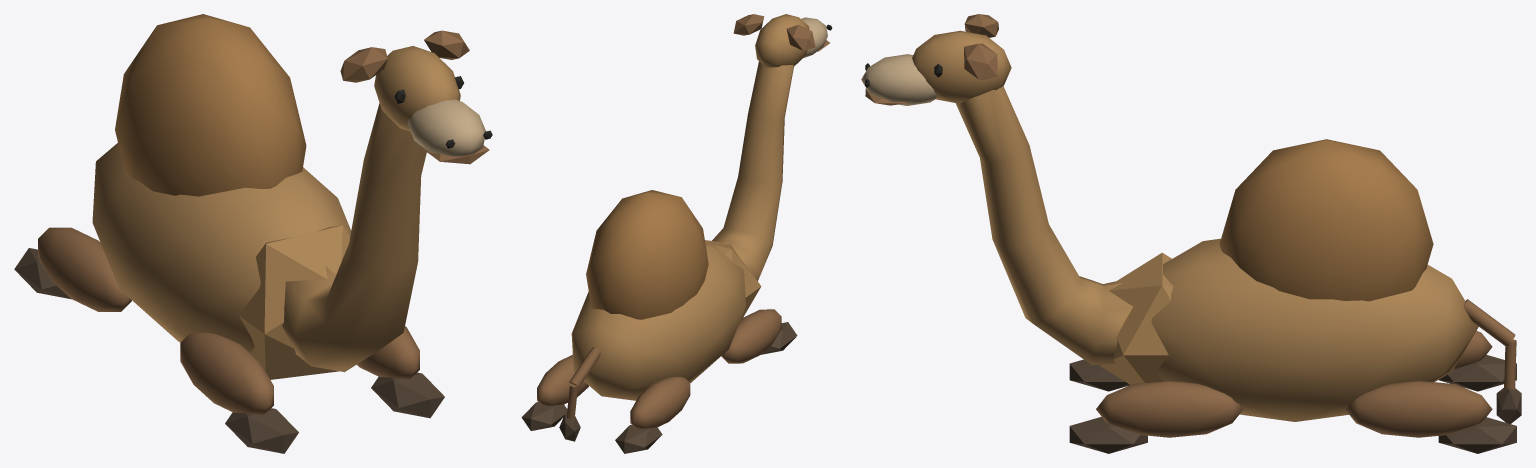
File: camel_kneeling.glb
The picture shows the model from 3 angles, left to right: view 1: azimuth 30°, elevation 25°; view 2: azimuth 150°, elevation 25°; view 3: azimuth 270°, elevation 25°; orthographic projection. The views are drawn at different scales.
Visible parts, largest first — view 1: camel_kneeling; view 2: camel_kneeling; view 3: camel_kneeling.
Part boxes in pixels (box(x1,y1,x2,y2)): camel_kneeling: box(14, 14, 492, 453); camel_kneeling: box(521, 14, 832, 453); camel_kneeling: box(861, 14, 1521, 453).
Bounding box in the file's own units: 1.08 × 2.31 × 3.58.
